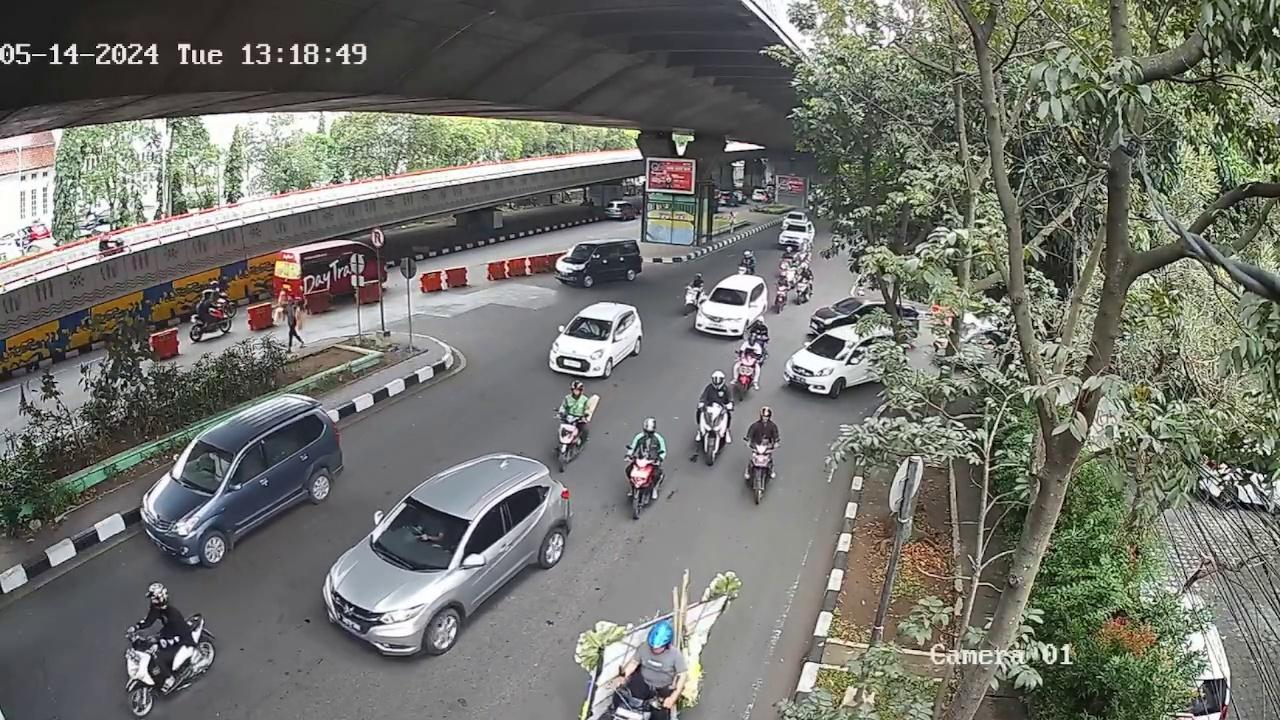pakai: (577, 319, 601, 335)
windshield: (370, 492, 472, 574), (169, 436, 234, 501), (564, 314, 612, 341)
